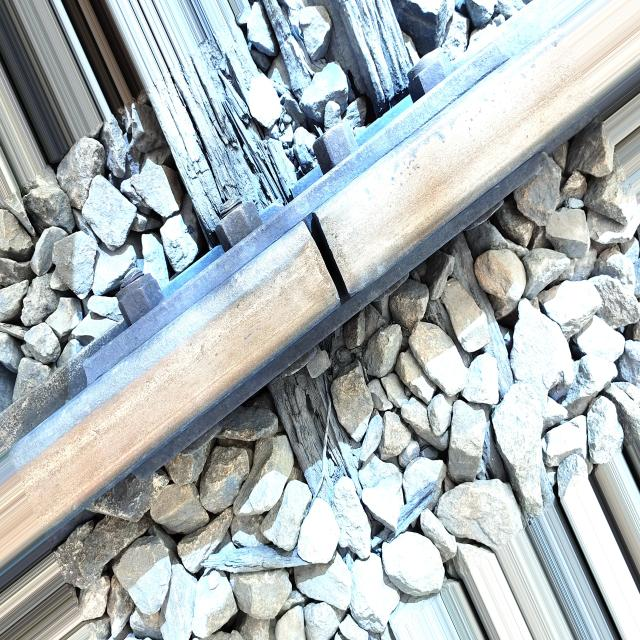crack: (286, 186, 381, 340)
